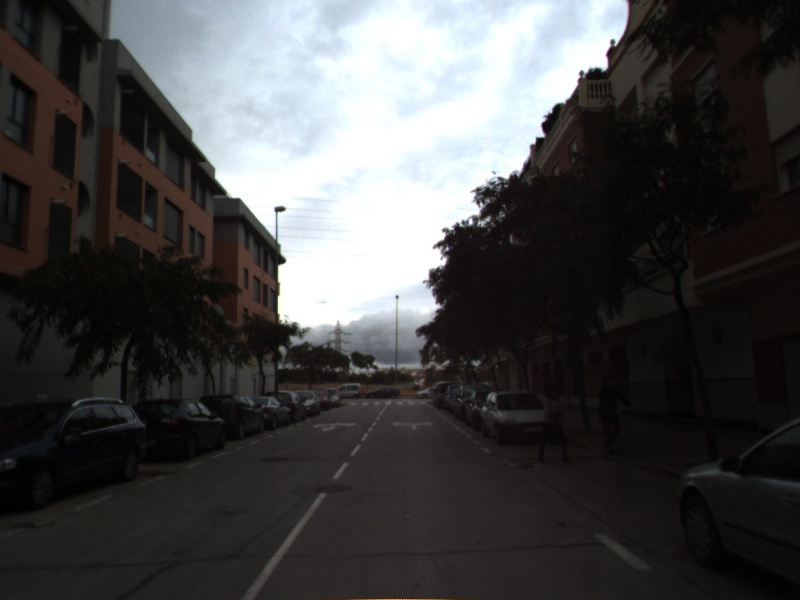LEFT_RIGHT: (390, 419, 437, 432)
